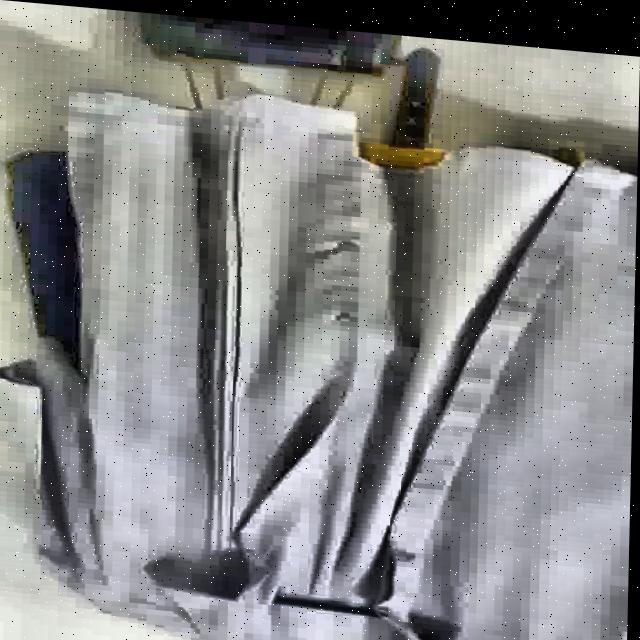clothes: (0, 71, 638, 640)
